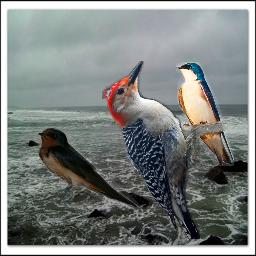Swallow: (35, 126, 140, 209), (176, 62, 234, 166)
Woodpecker: (102, 61, 200, 239)
